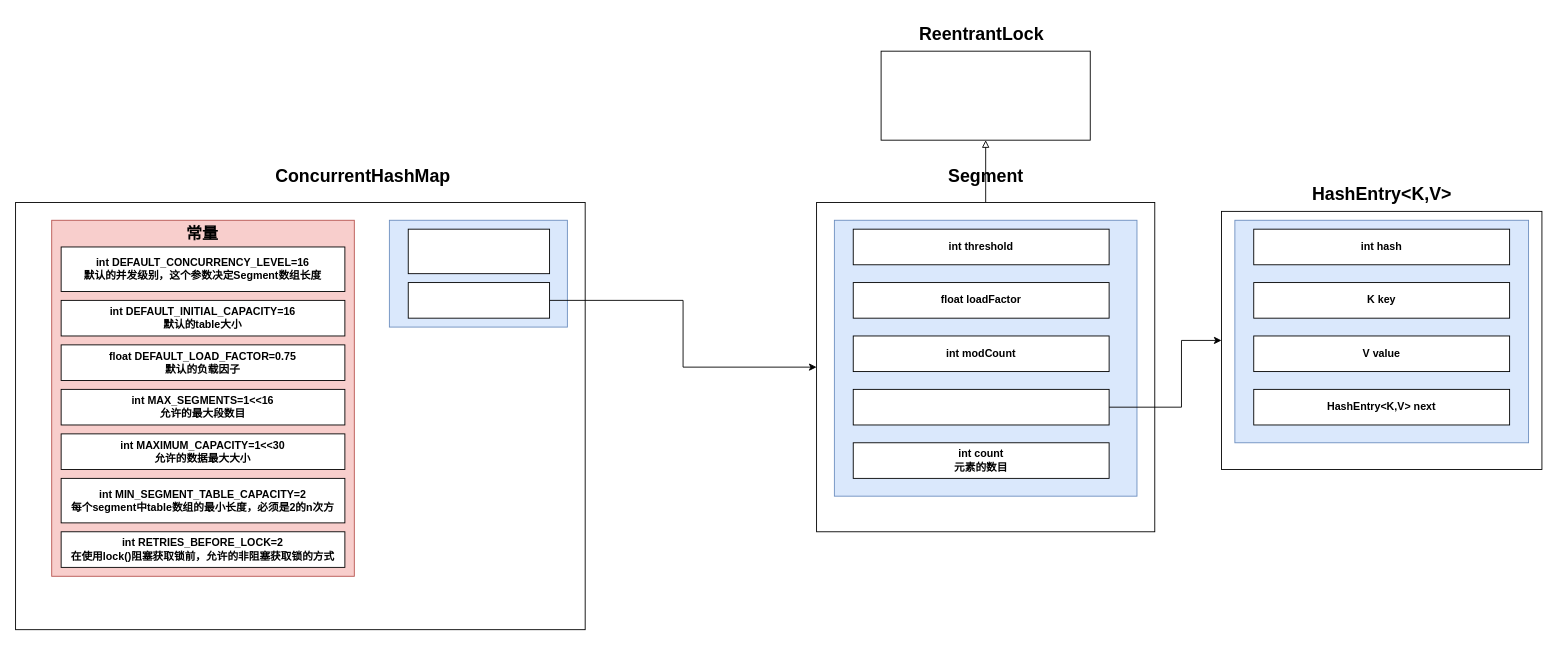
This 1558x645 diagram has some shape labels left out. Each missing label, with the centre of its shape:
HashEntry<K,V>[ ] table: the point at 980,406
Segment<K,V> segments: the point at 478,300
Set<Entry<K,V> >entrySet: the point at 478,251
